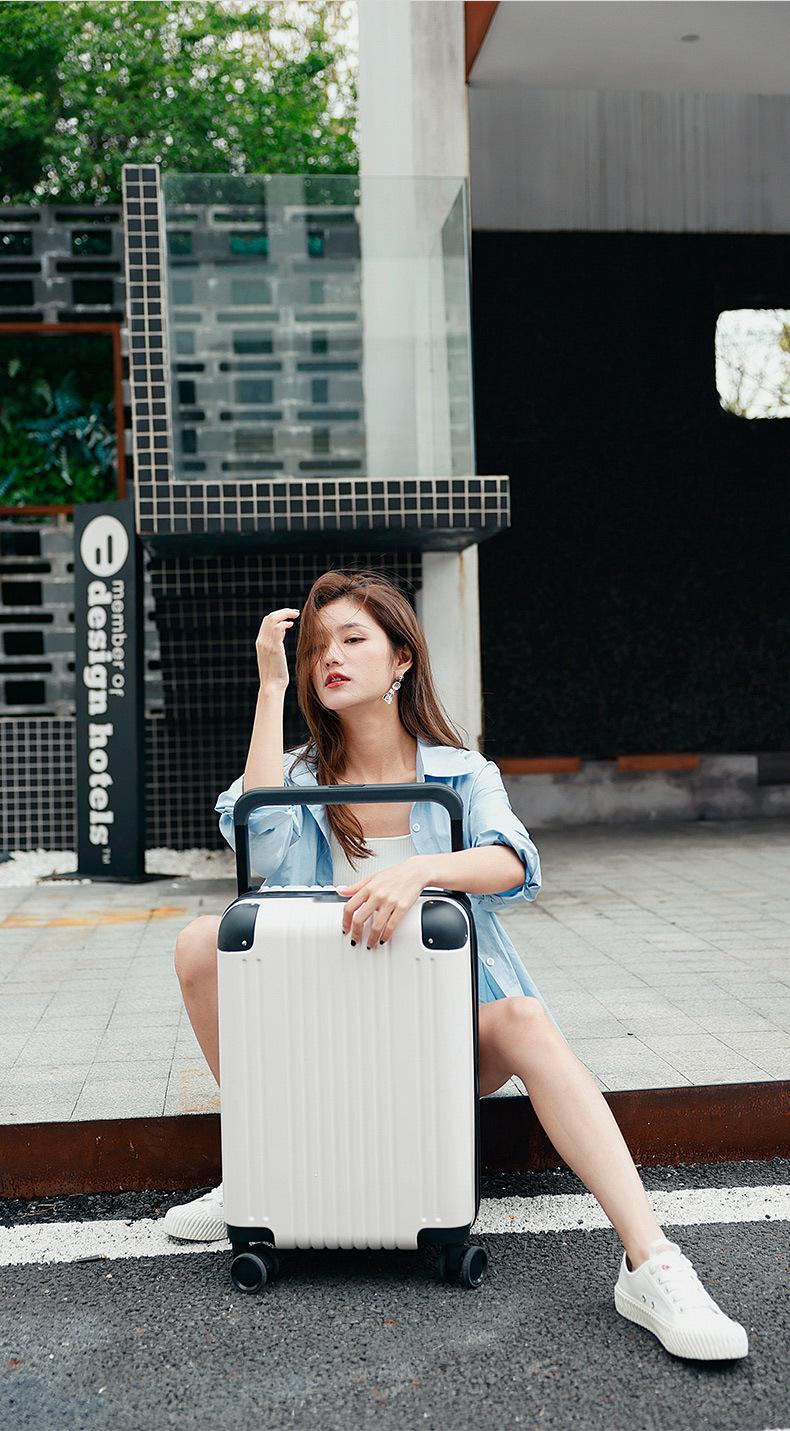box: (217, 886, 478, 1251)
wheel: (436, 1242, 489, 1288), (230, 1244, 279, 1293)
